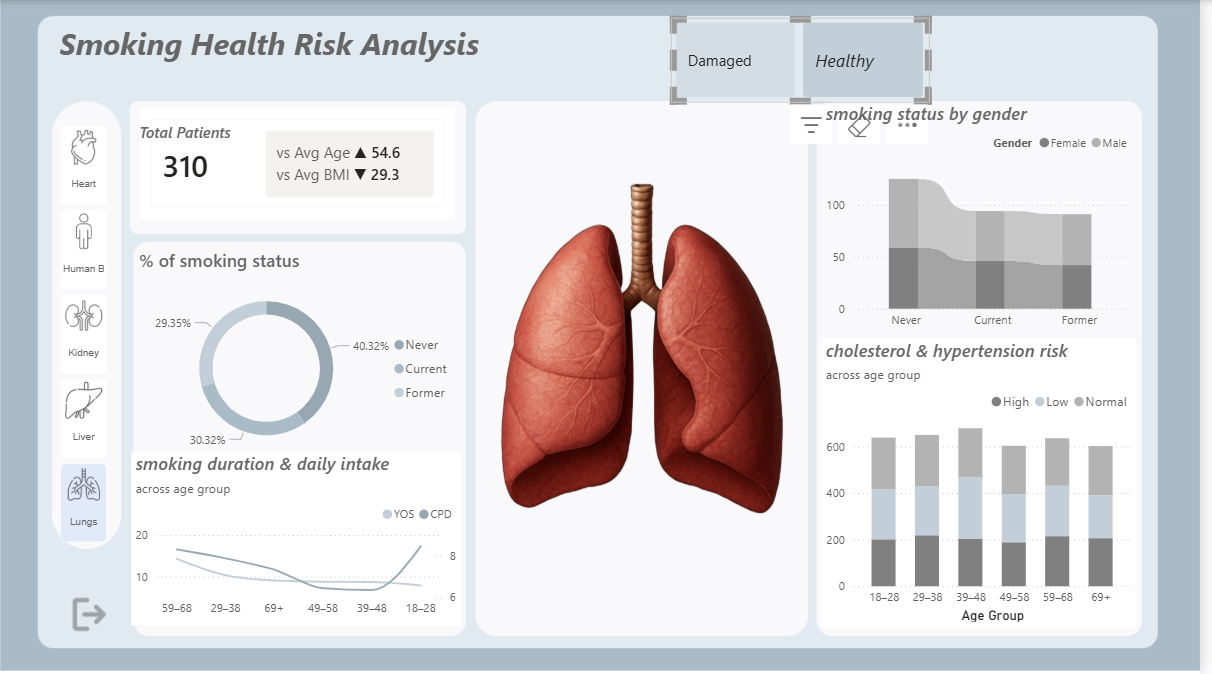

The dashboard page shown, as its layout file describes it:
{"tool":"powerbi","page":{"name":"Page 1","canvas":[1280,720],"ordinal":0},"visuals":[{"type":"cardVisual","fields":{"Data":["CountNonNull(health_dataset.Patient_ID)"]},"box":[143.1,108.6,347.1,129.8],"z":0},{"type":"textbox","box":[144,108,174,66],"z":1000},{"type":"advancedSlicerVisual","fields":{"Values":["condition.Organ_Condition"]},"box":[715.5,18.5,275.6,90.1],"z":2000},{"type":"ChicletSlicer1448559807354","fields":{"Category":["Organs.Organ"],"Image":["Organs.Icon_URL"]},"box":[57,125.8,110.1,475.8],"z":3000},{"type":"image","box":[519,108.1,334.2,560.3],"z":4000},{"type":"donutChart","title":"% of smoking status","fields":{"Category":["health_dataset.Smoking_Status"],"Y":["CountNonNull(health_dataset.Smoking_Status)"]},"box":[144,264,348,232],"z":5000},{"type":"lineChart","title":"smoking duration & daily intake","fields":{"Category":["health_dataset.Age Group"],"Y":["Avg(health_dataset.Years_of_Smoking)"],"Y2":["Avg(health_dataset.Cigarettes_Per_Day)"]},"box":[140,482,352,186],"z":5001},{"type":"ribbonChart","title":"smoking status by gender","fields":{"Category":["health_dataset.Smoking_Status"],"Y":["CountNonNull(health_dataset.Patient_ID)"],"Series":["health_dataset.Gender"]},"box":[876,108,336,252],"z":5002},{"type":"columnChart","title":"cholesterol & hypertension risk","fields":{"Category":["health_dataset.Age Group"],"Y":["Avg(health_dataset.Cholesterol_Level)"],"Series":["health_dataset.BP_Risk"]},"box":[876,360,336,308],"z":5003},{"type":"textbox","box":[58,18,462,108],"z":5004}]}

Visuals, with their boxes in screenshot pixels (x1, y1, x2, y2), scaled from the page's 1280x720 canvas onto the 1212x674 screenshot:
cardVisual - CountNonNull(health_dataset.Patient_ID): rect(135, 102, 464, 223)
textbox: rect(136, 101, 301, 163)
advancedSlicerVisual - condition.Organ_Condition: rect(677, 17, 938, 102)
ChicletSlicer1448559807354 - Organs.Organ x Organs.Icon_URL: rect(54, 118, 158, 563)
image: rect(491, 101, 808, 626)
"% of smoking status" donutChart: rect(136, 247, 466, 464)
"smoking duration & daily intake" lineChart: rect(133, 451, 466, 625)
"smoking status by gender" ribbonChart: rect(829, 101, 1148, 337)
"cholesterol & hypertension risk" columnChart: rect(829, 337, 1148, 625)
textbox: rect(55, 17, 492, 118)
